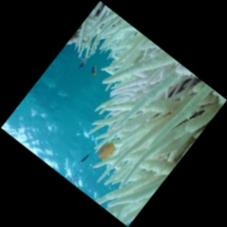bleached_corals: (24, 19, 226, 226)
